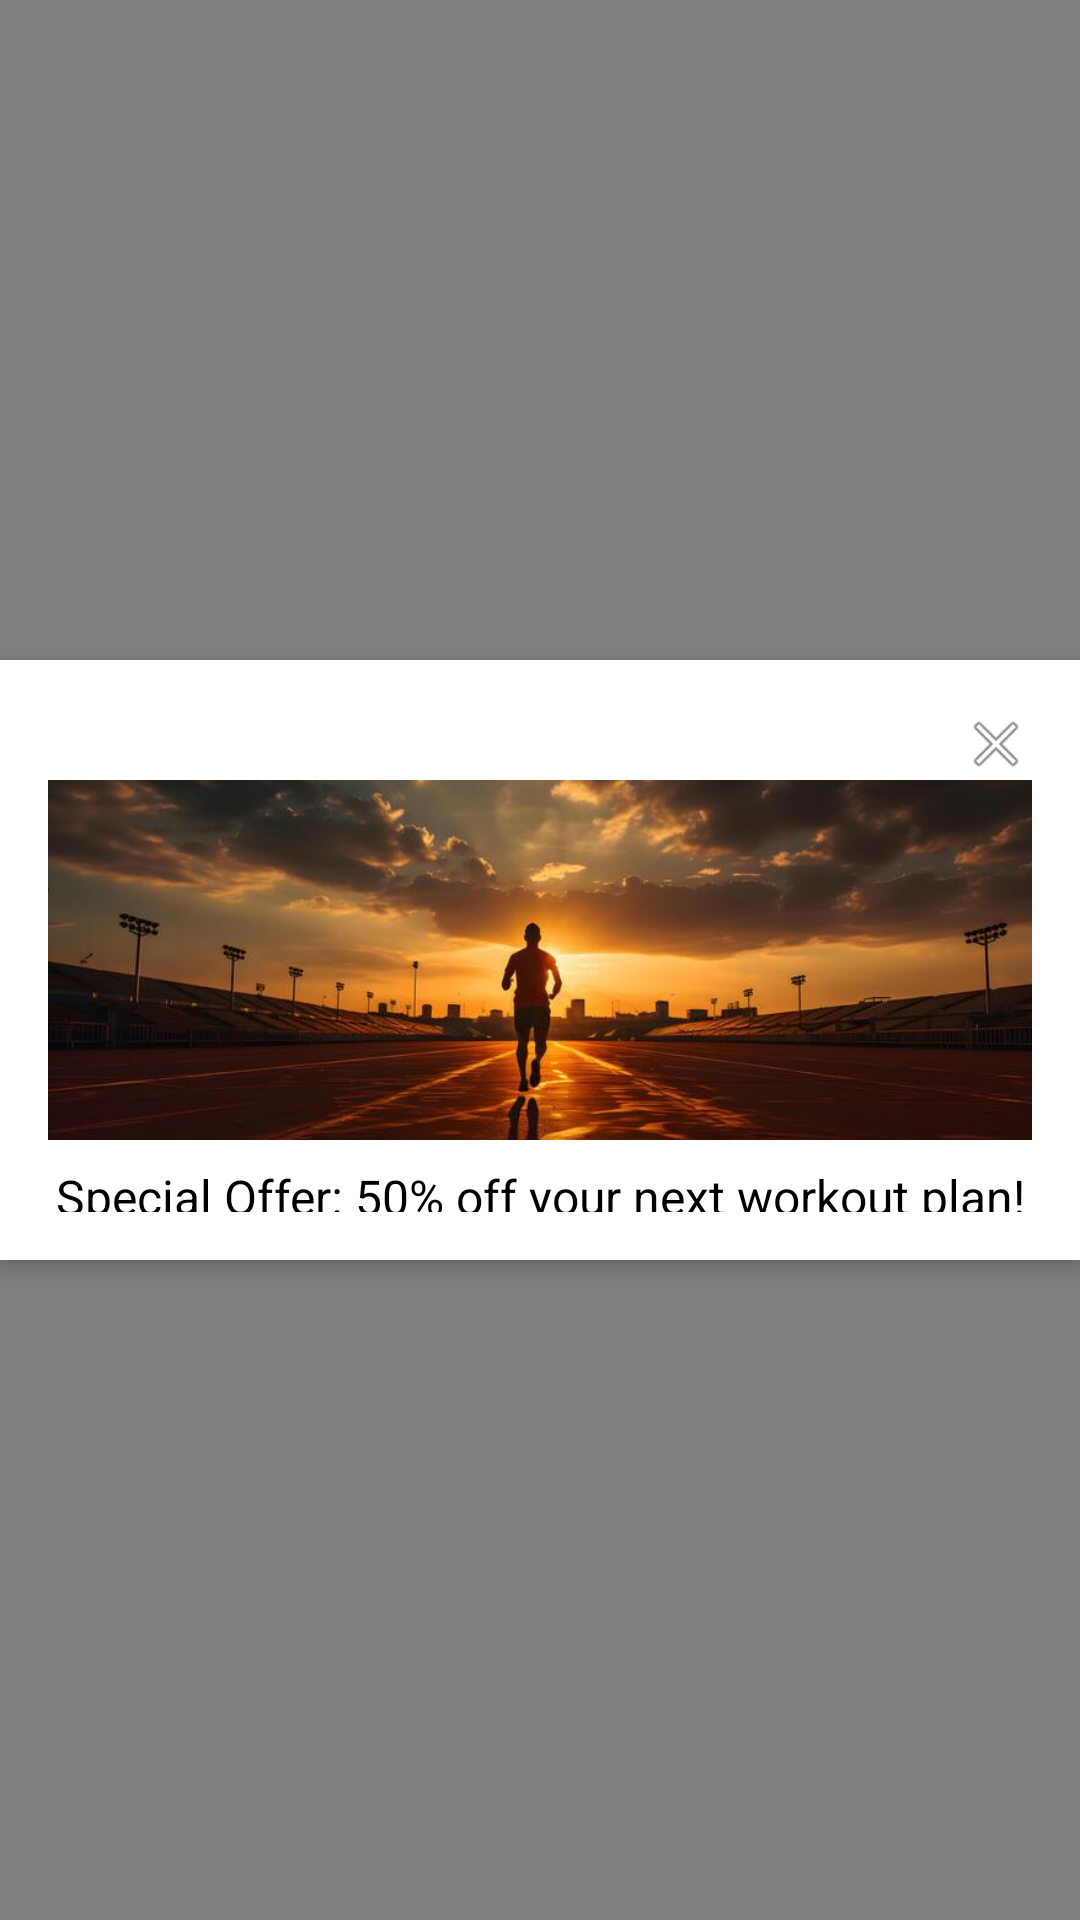

Screen size 1080×1920. Icon name, then its box in pixels as [x1,y1,x2,y2]:
Close popup: [973,721,1019,767]
